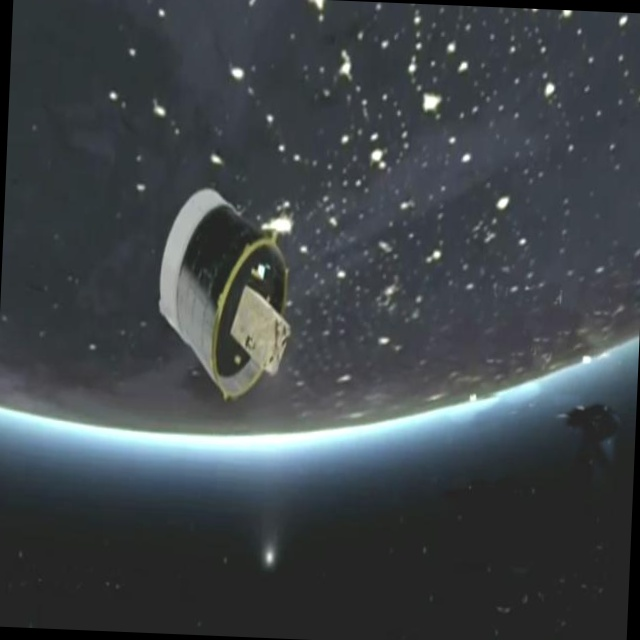medium_debris: (144, 174, 304, 427)
